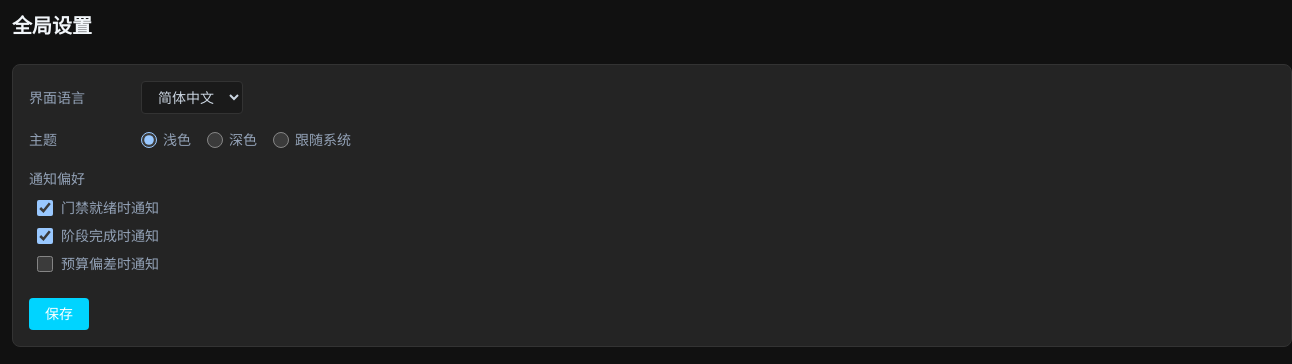
Test: GeneralSettings › 保存成功应显示成功消息
The image size is (1292, 364).
Click the button "保存": (59, 314) x1=29 y1=298 x2=89 y2=330
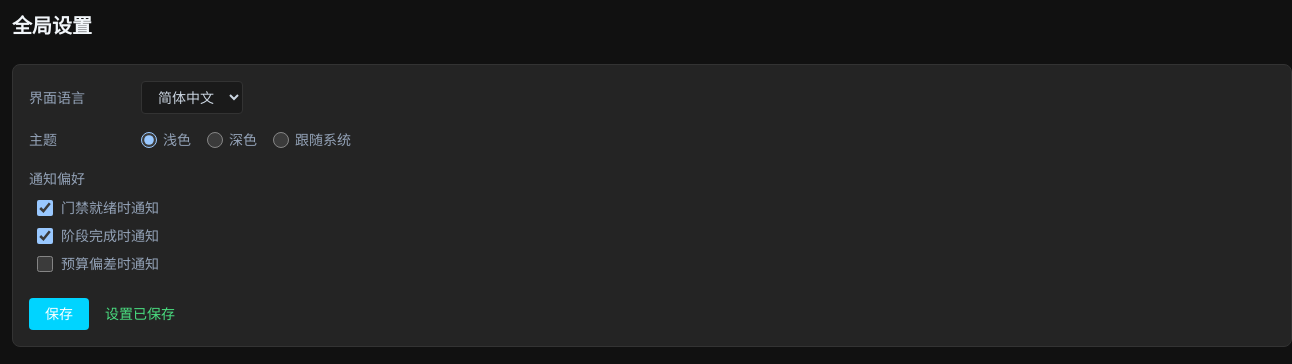
Check: the text "设置已保存" is shown, box x1=105 y1=304 x2=175 y2=324
